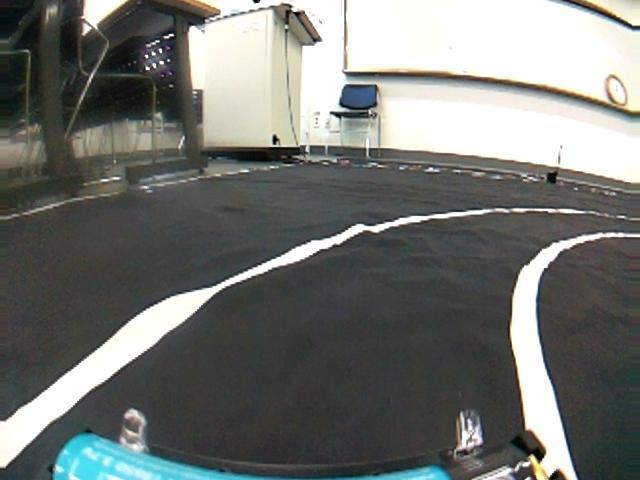right: (0, 176, 640, 480)
